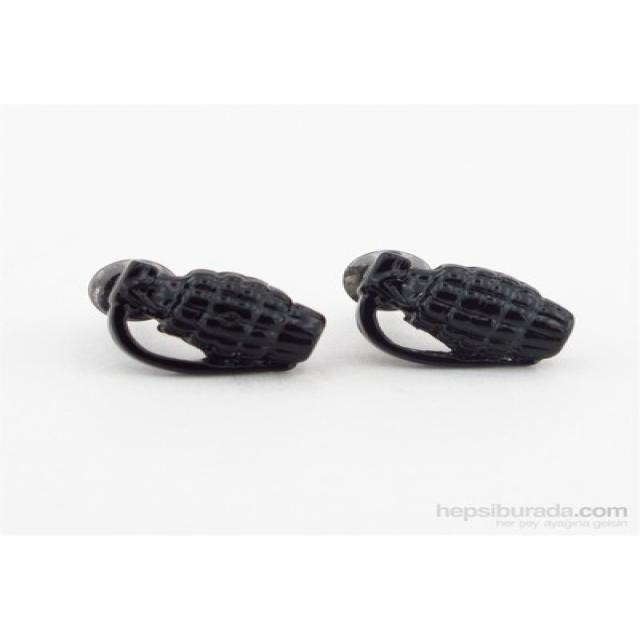grenade: (333, 247, 582, 375), (100, 261, 328, 377)
